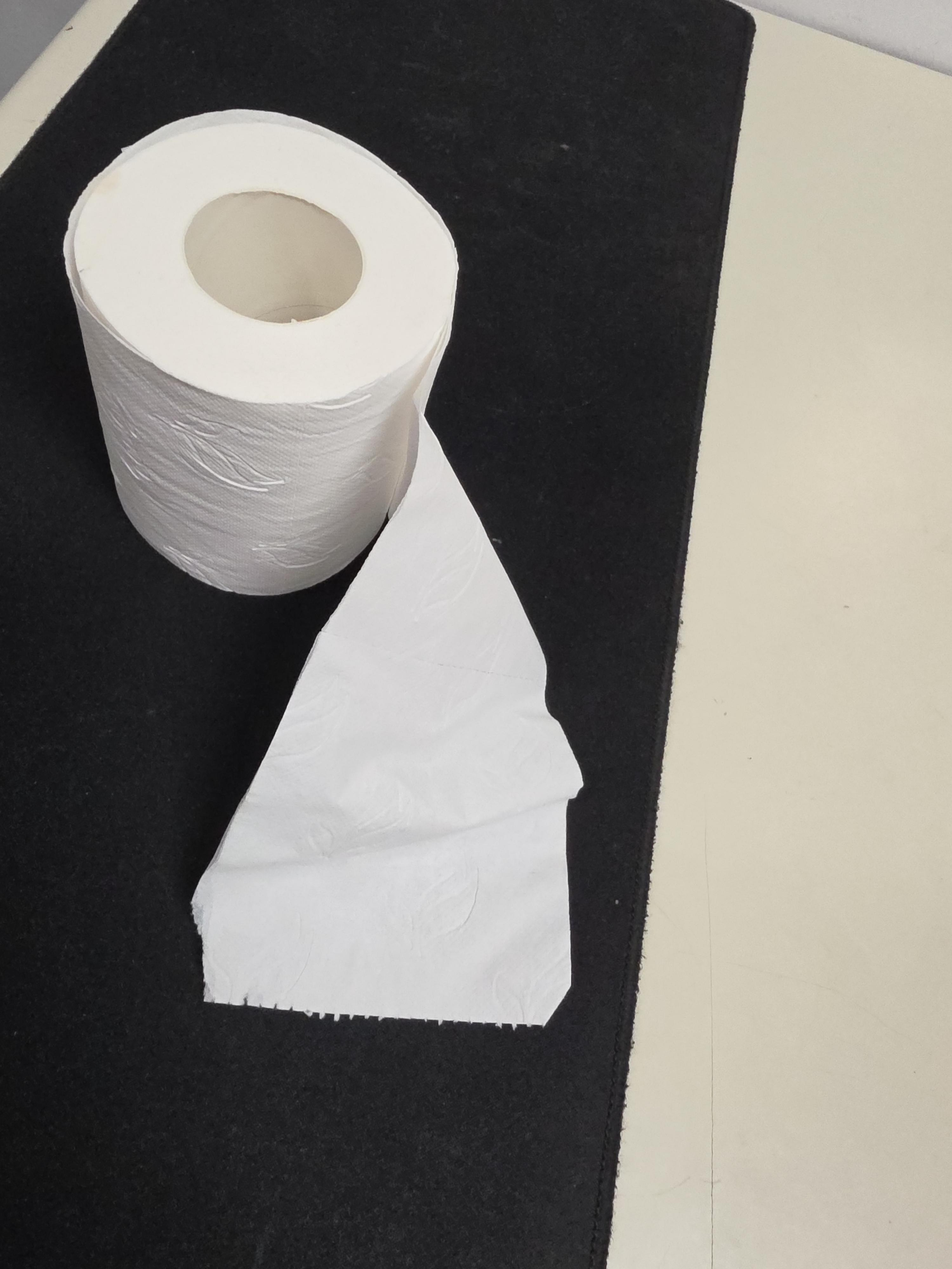tissue: (63, 108, 585, 1030)
